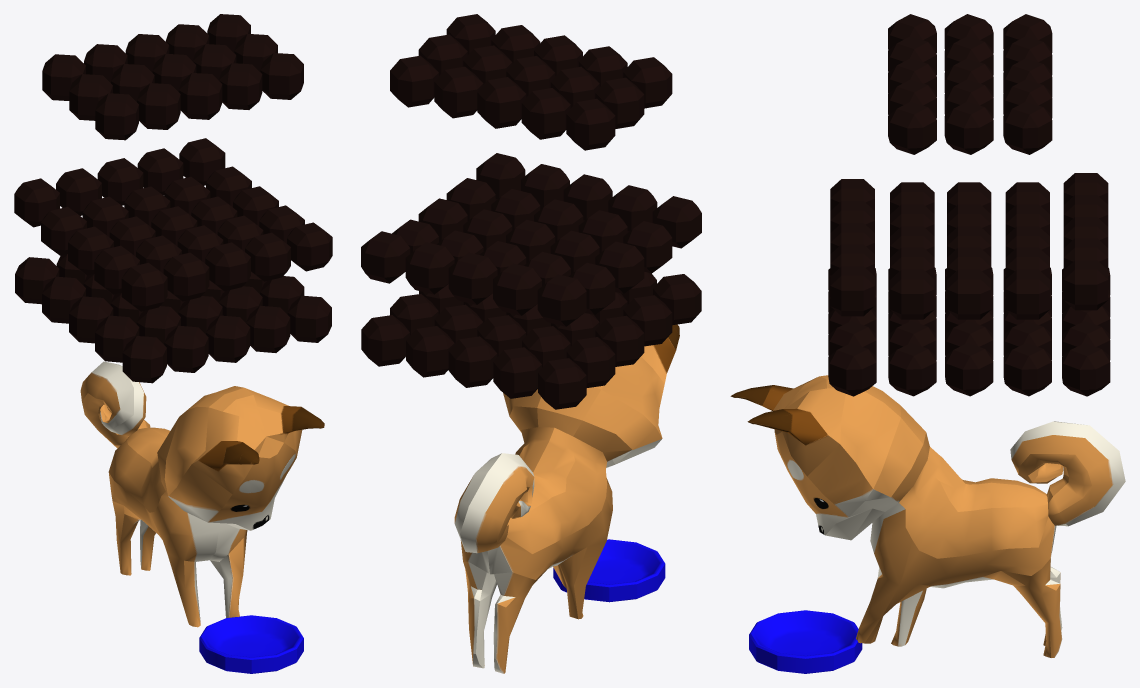
File: emptyBowl_Frame.obj
3 renders of one model, left to right at view 1: azimuth 30°, elevation 25°; view 2: azimuth 150°, elevation 25°; view 3: azimuth 270°, elevation 25°, orthographic. The views are drawn at different scales.
Parts seen in each view (by area): view 1: newRigging1:BodzL1, FressnapfLeer:pCylinder1, FressnapfFull:pCube46, FressnapfFull:pCube57, FressnapfFull:pCube45, FressnapfFull:pCube48, FressnapfFull:pCube43, FressnapfFull:pCube36, FressnapfFull:pCube42, FressnapfFull:pCube49, FressnapfFull:pCube50, FressnapfFull:pCube59 (+44 smaller); view 2: newRigging1:BodzL1, FressnapfLeer:pCylinder1, FressnapfFull:pCube39, FressnapfFull:pCube51, FressnapfFull:pCube64, FressnapfFull:pCube53, FressnapfFull:pCube37, FressnapfFull:pCube54, FressnapfFull:pCube55, FressnapfFull:pCube38, FressnapfFull:pCube41, FressnapfFull:pCube65 (+48 smaller); view 3: newRigging1:BodzL1, FressnapfLeer:pCylinder1, FressnapfFull:pCube31, FressnapfFull:pCube41, FressnapfFull:pCube15, FressnapfFull:pCube50, FressnapfFull:pCube4, FressnapfFull:pCube10, FressnapfFull:pCube55, FressnapfFull:pCube65, FressnapfFull:pCube36, FressnapfFull:pCube25 (+42 smaller).
Boxes of the visible parts, x1,y1,x2,y2 form: newRigging1:BodzL1: [80, 361, 324, 627]; FressnapfLeer:pCylinder1: [199, 615, 303, 673]; FressnapfFull:pCube46: [122, 336, 166, 383]; FressnapfFull:pCube57: [121, 262, 167, 311]; FressnapfFull:pCube45: [95, 93, 138, 140]; FressnapfFull:pCube48: [206, 315, 250, 362]; FressnapfFull:pCube43: [178, 73, 222, 119]; FressnapfFull:pCube36: [260, 53, 303, 99]; FressnapfFull:pCube42: [137, 83, 180, 129]; FressnapfFull:pCube49: [164, 325, 208, 372]; FressnapfFull:pCube50: [287, 295, 331, 342]; FressnapfFull:pCube59: [163, 252, 209, 301]; newRigging1:BodzL1: [454, 324, 679, 673]; FressnapfLeer:pCylinder1: [553, 539, 665, 602]; FressnapfFull:pCube39: [566, 98, 615, 150]; FressnapfFull:pCube51: [538, 358, 586, 409]; FressnapfFull:pCube64: [537, 274, 586, 326]; FressnapfFull:pCube53: [448, 336, 497, 387]; FressnapfFull:pCube37: [521, 88, 570, 139]; FressnapfFull:pCube54: [493, 347, 541, 398]; FressnapfFull:pCube55: [361, 315, 409, 366]; FressnapfFull:pCube38: [477, 77, 526, 128]; FressnapfFull:pCube41: [390, 55, 438, 107]; FressnapfFull:pCube65: [361, 231, 410, 283]; newRigging1:BodzL1: [730, 375, 1125, 657]; FressnapfLeer:pCylinder1: [749, 610, 862, 673]; FressnapfFull:pCube31: [944, 101, 993, 154]; FressnapfFull:pCube41: [1003, 101, 1052, 154]; FressnapfFull:pCube15: [1003, 343, 1051, 396]; FressnapfFull:pCube50: [828, 343, 876, 396]; FressnapfFull:pCube4: [945, 343, 993, 396]; FressnapfFull:pCube10: [888, 343, 936, 396]; FressnapfFull:pCube55: [1062, 343, 1110, 396]; FressnapfFull:pCube65: [1063, 260, 1108, 310]; FressnapfFull:pCube36: [888, 101, 936, 154]; FressnapfFull:pCube25: [890, 269, 934, 319].
Bounding box in the file's own units: 5.73 × 14.49 × 8.87.
3 materials, 1 textured.
